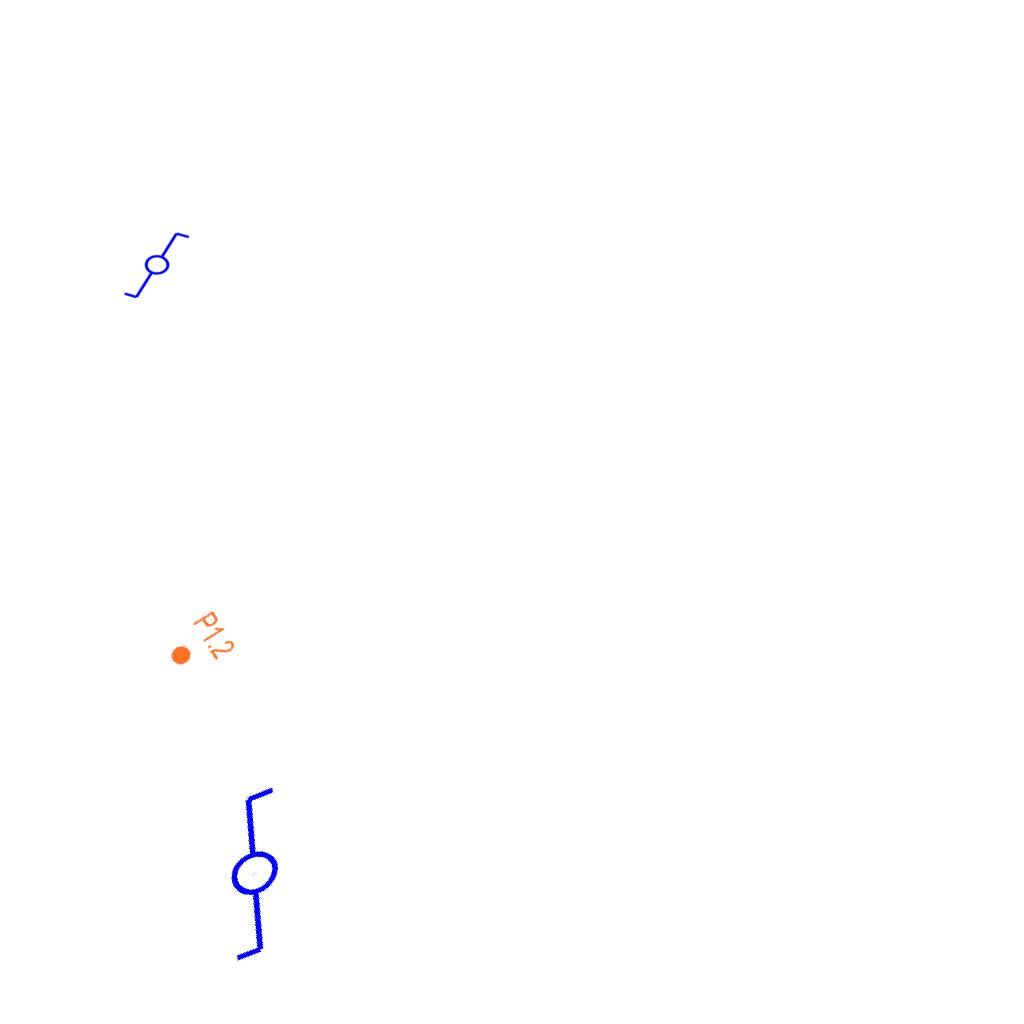Downlight_LED_Einbauleuchten_Flur: (159, 608, 239, 682)
Wechselschalter: (156, 765, 369, 975), (122, 230, 200, 302)
